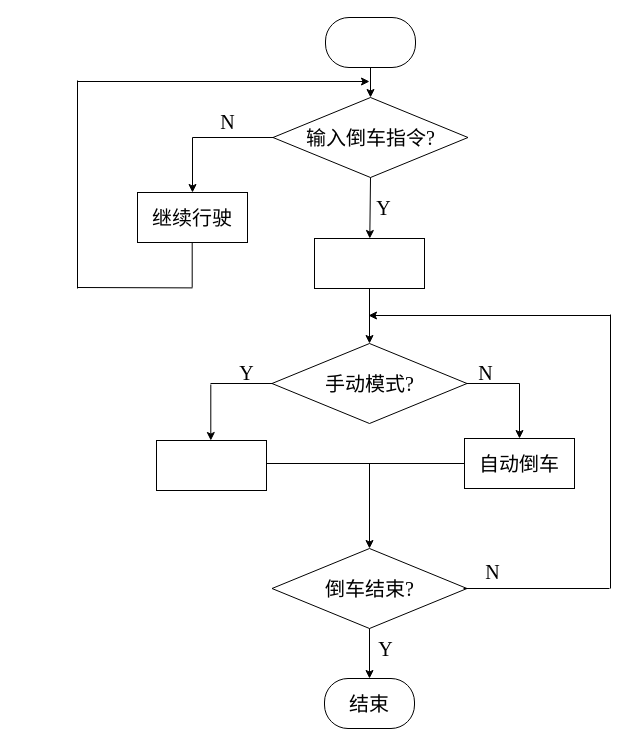
This 636x746 diagram has some shape labels left out. Each missing label, with the centre of its shape:
反馈信息: (211,465)
开始: (370,42)
进入倒车: (369,263)
